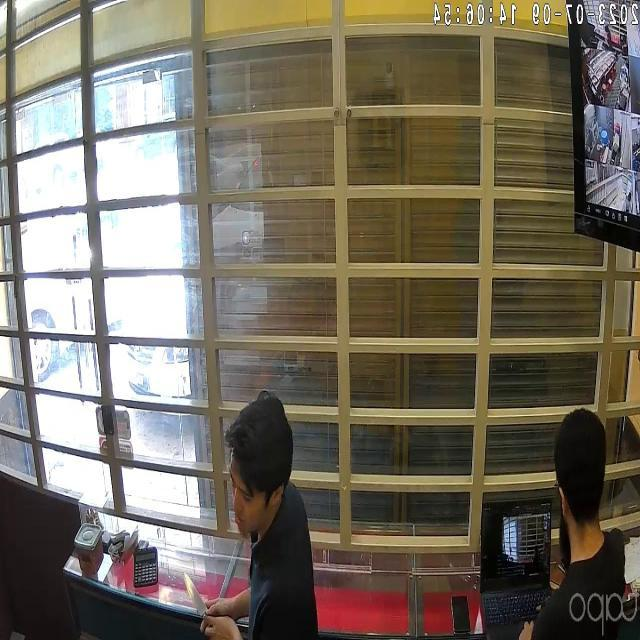Knife: (181, 559, 216, 615)
